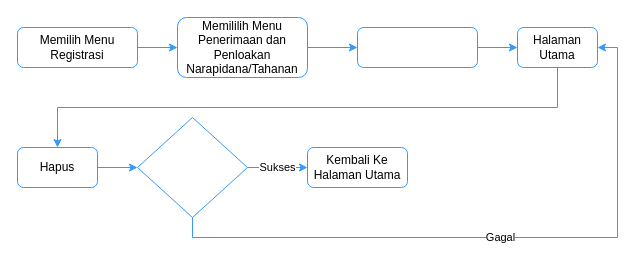
This 643x263 diagram has some shape labels left out. The shapes that lost their labels are listed below. From the top down, each one's centre as x and y in pixels, then its label:
the point at 417,47: Memilih Menu Penerimaan
the point at 192,167: Proses Menghapus Data
